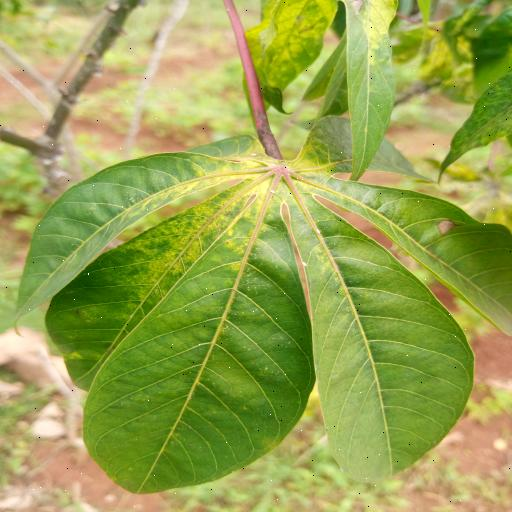Cassava_Mosaic: (14, 139, 512, 500)
